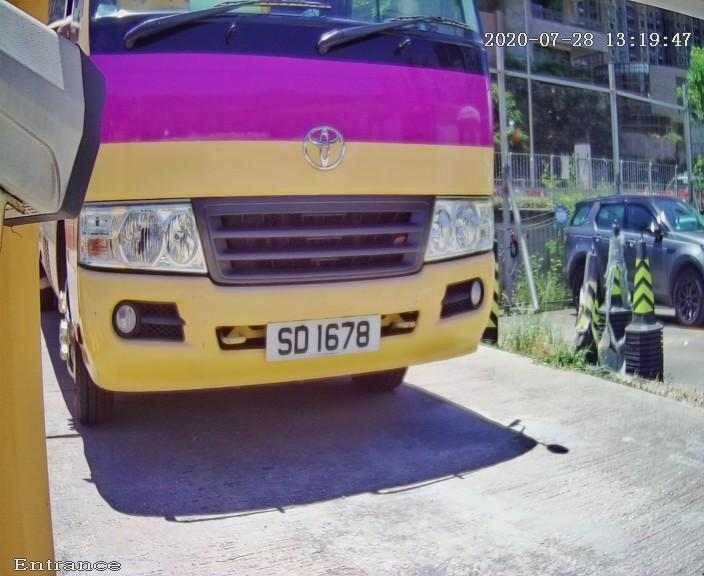van_s: (42, 1, 523, 431)
